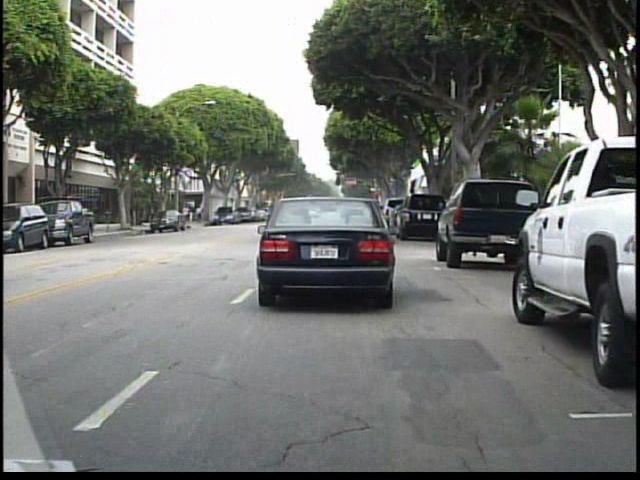person: (181, 202, 193, 227), (195, 201, 205, 226)
